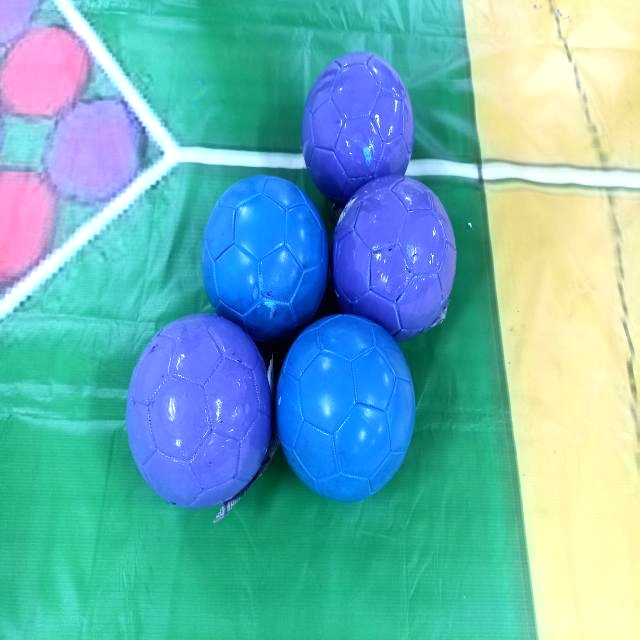blue_ball: (280, 310, 422, 502), (201, 168, 327, 332)
purple_ball: (125, 310, 273, 490), (336, 180, 453, 330), (300, 45, 418, 181)
